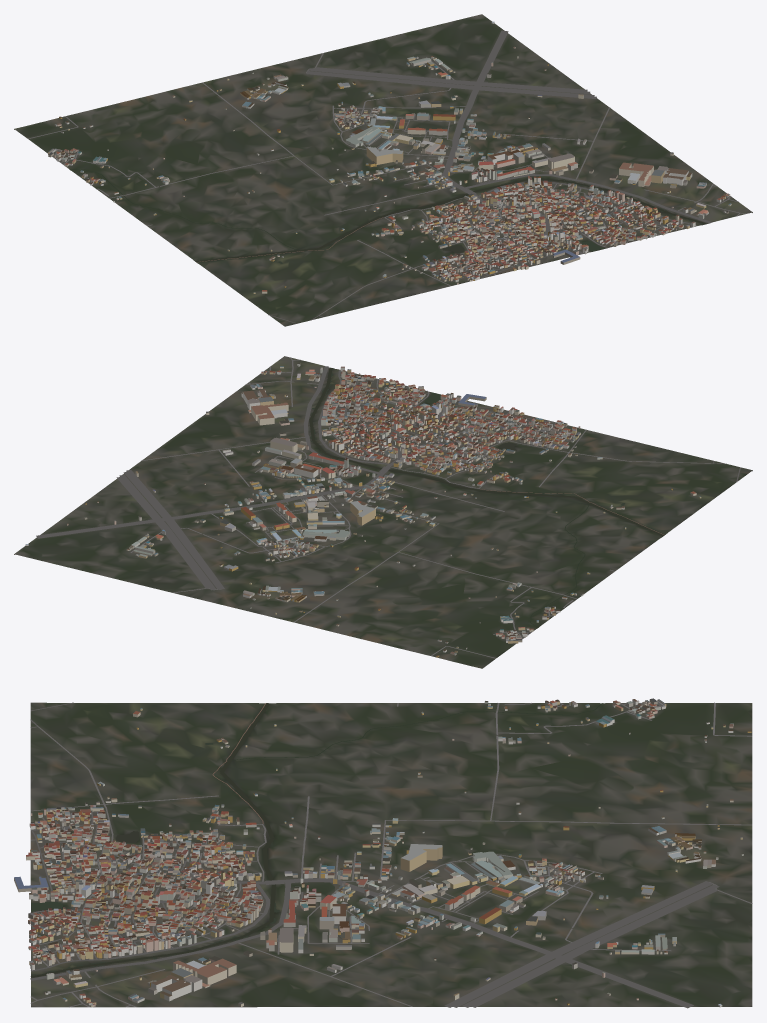
3 views of the same model, one above another, from view 1: azimuth 30°, elevation 25°; view 2: azimuth 150°, elevation 25°; view 3: azimuth 270°, elevation 25° (orthographic). The views are drawn at different scales.
Parts seen in each view (by area): view 1: ground, buildings, roads, water; view 2: ground, buildings, roads, water; view 3: ground, buildings, roads, water.
Part boxes in pixels (<box>): ground: <box>14,14,752,326</box>; buildings: <box>48,21,731,293</box>; roads: <box>28,30,746,323</box>; water: <box>70,169,706,263</box>; ground: <box>14,356,752,668</box>; buildings: <box>25,363,701,657</box>; roads: <box>36,357,740,658</box>; water: <box>309,367,664,627</box>; ground: <box>30,702,752,1007</box>; buildings: <box>14,698,751,1007</box>; roads: <box>30,702,752,1008</box>; water: <box>30,703,602,977</box>.
Size of the model in its own units: 1415 by 30.88 by 1436.
